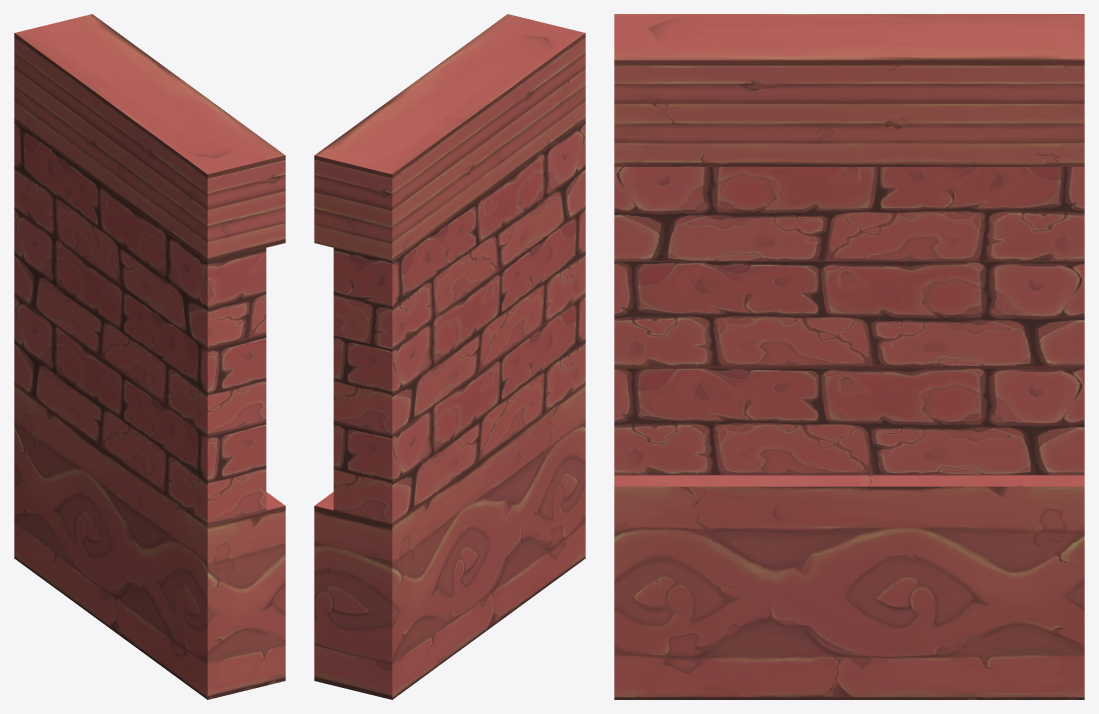
File: Tembok.fbx
The picture shows the model from 3 angles, left to right: view 1: azimuth 30°, elevation 25°; view 2: azimuth 150°, elevation 25°; view 3: azimuth 270°, elevation 25°; orthographic projection. The views are drawn at different scales.
Parts seen in each view (by area): view 1: Plane.003; view 2: Plane.003; view 3: Plane.003.
Part boxes in pixels (left/top/right/bottom): Plane.003: left=14, top=14, right=285, bottom=699; Plane.003: left=314, top=14, right=585, bottom=699; Plane.003: left=614, top=14, right=1084, bottom=699.
Size of the model in its own units: 46.57 by 300 by 200.
